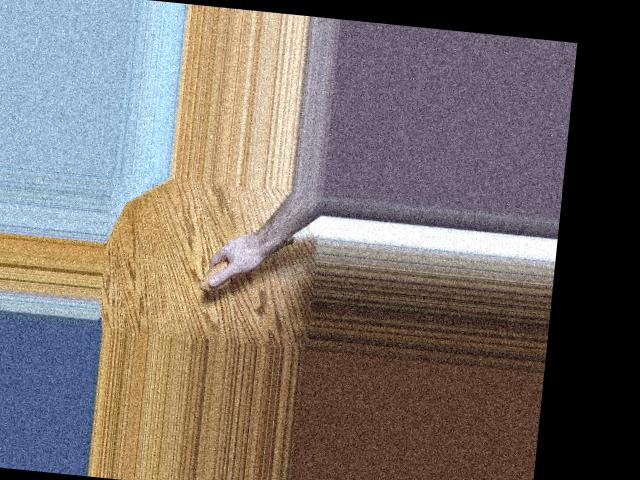sweet_potato: (198, 220, 299, 300)
